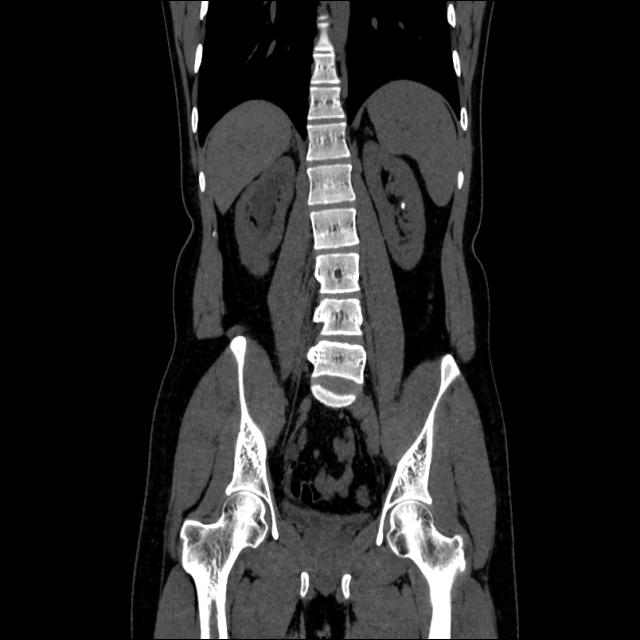kidney: (359, 137, 429, 271), (234, 155, 298, 276)
stone: (399, 200, 408, 210)
